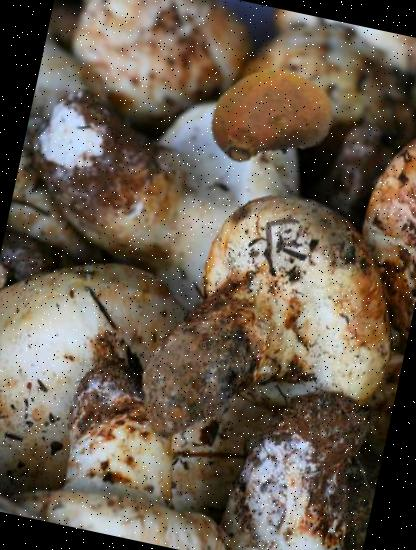Potato: (195, 38, 347, 190)
